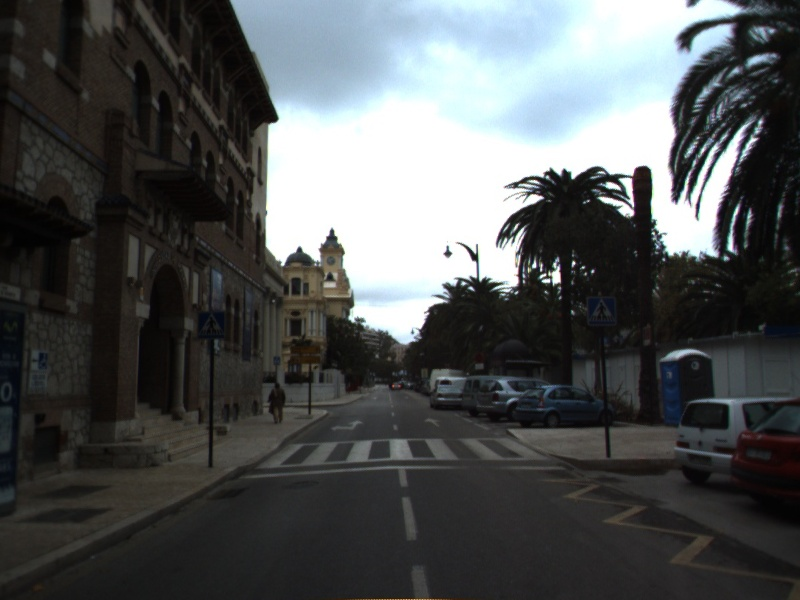STRAIGHT: (422, 416, 443, 429)
STRAIGHT_LEFT: (329, 417, 366, 433)
